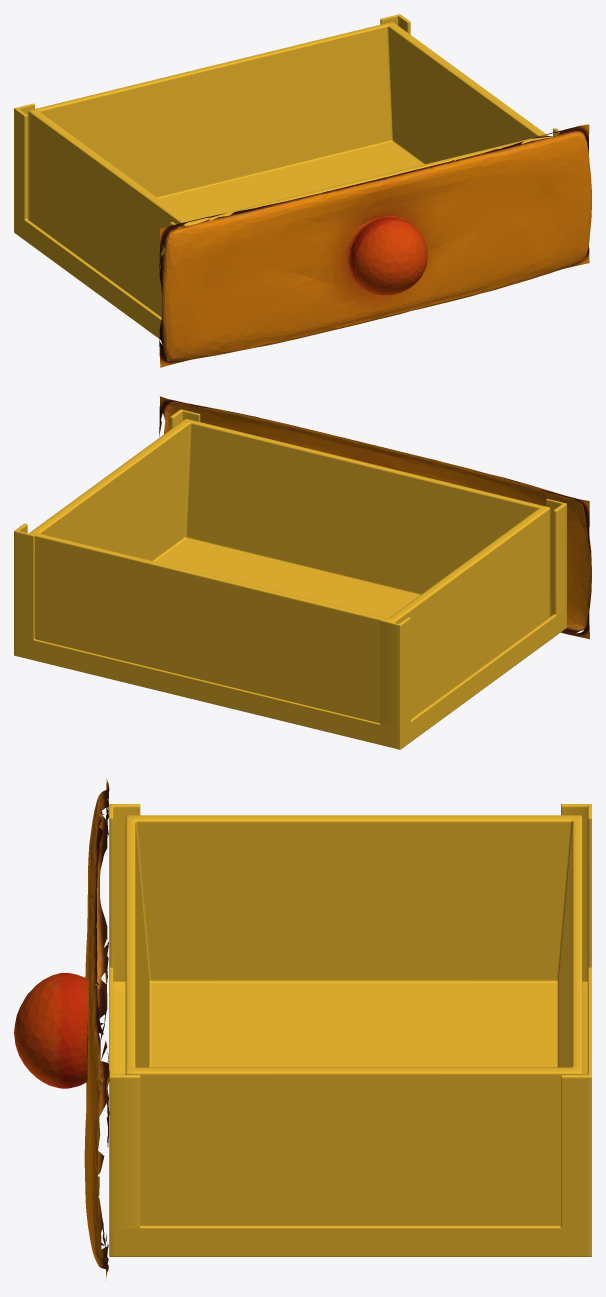
Rendered from drawer_top.glb.
The picture shows the model from 3 angles, top to bottom: view 1: azimuth 30°, elevation 25°; view 2: azimuth 150°, elevation 25°; view 3: azimuth 270°, elevation 25°; orthographic projection. The views are drawn at different scales.
Parts seen in each view (by area): view 1: prefab_drawer_body_1, source_front_cap_0; view 2: prefab_drawer_body_1, source_front_cap_0; view 3: prefab_drawer_body_1, source_front_cap_0.
Boxes of the visible parts, box(x1,y1,x2,y2) form: prefab_drawer_body_1: box(14, 14, 559, 339); source_front_cap_0: box(159, 124, 591, 367); prefab_drawer_body_1: box(14, 409, 566, 749); source_front_cap_0: box(159, 396, 591, 639); prefab_drawer_body_1: box(109, 804, 591, 1256); source_front_cap_0: box(14, 779, 109, 1280).
Bounding box in the file's own units: 0.3912 × 0.1205 × 0.3148.
2 materials, 1 textured.
